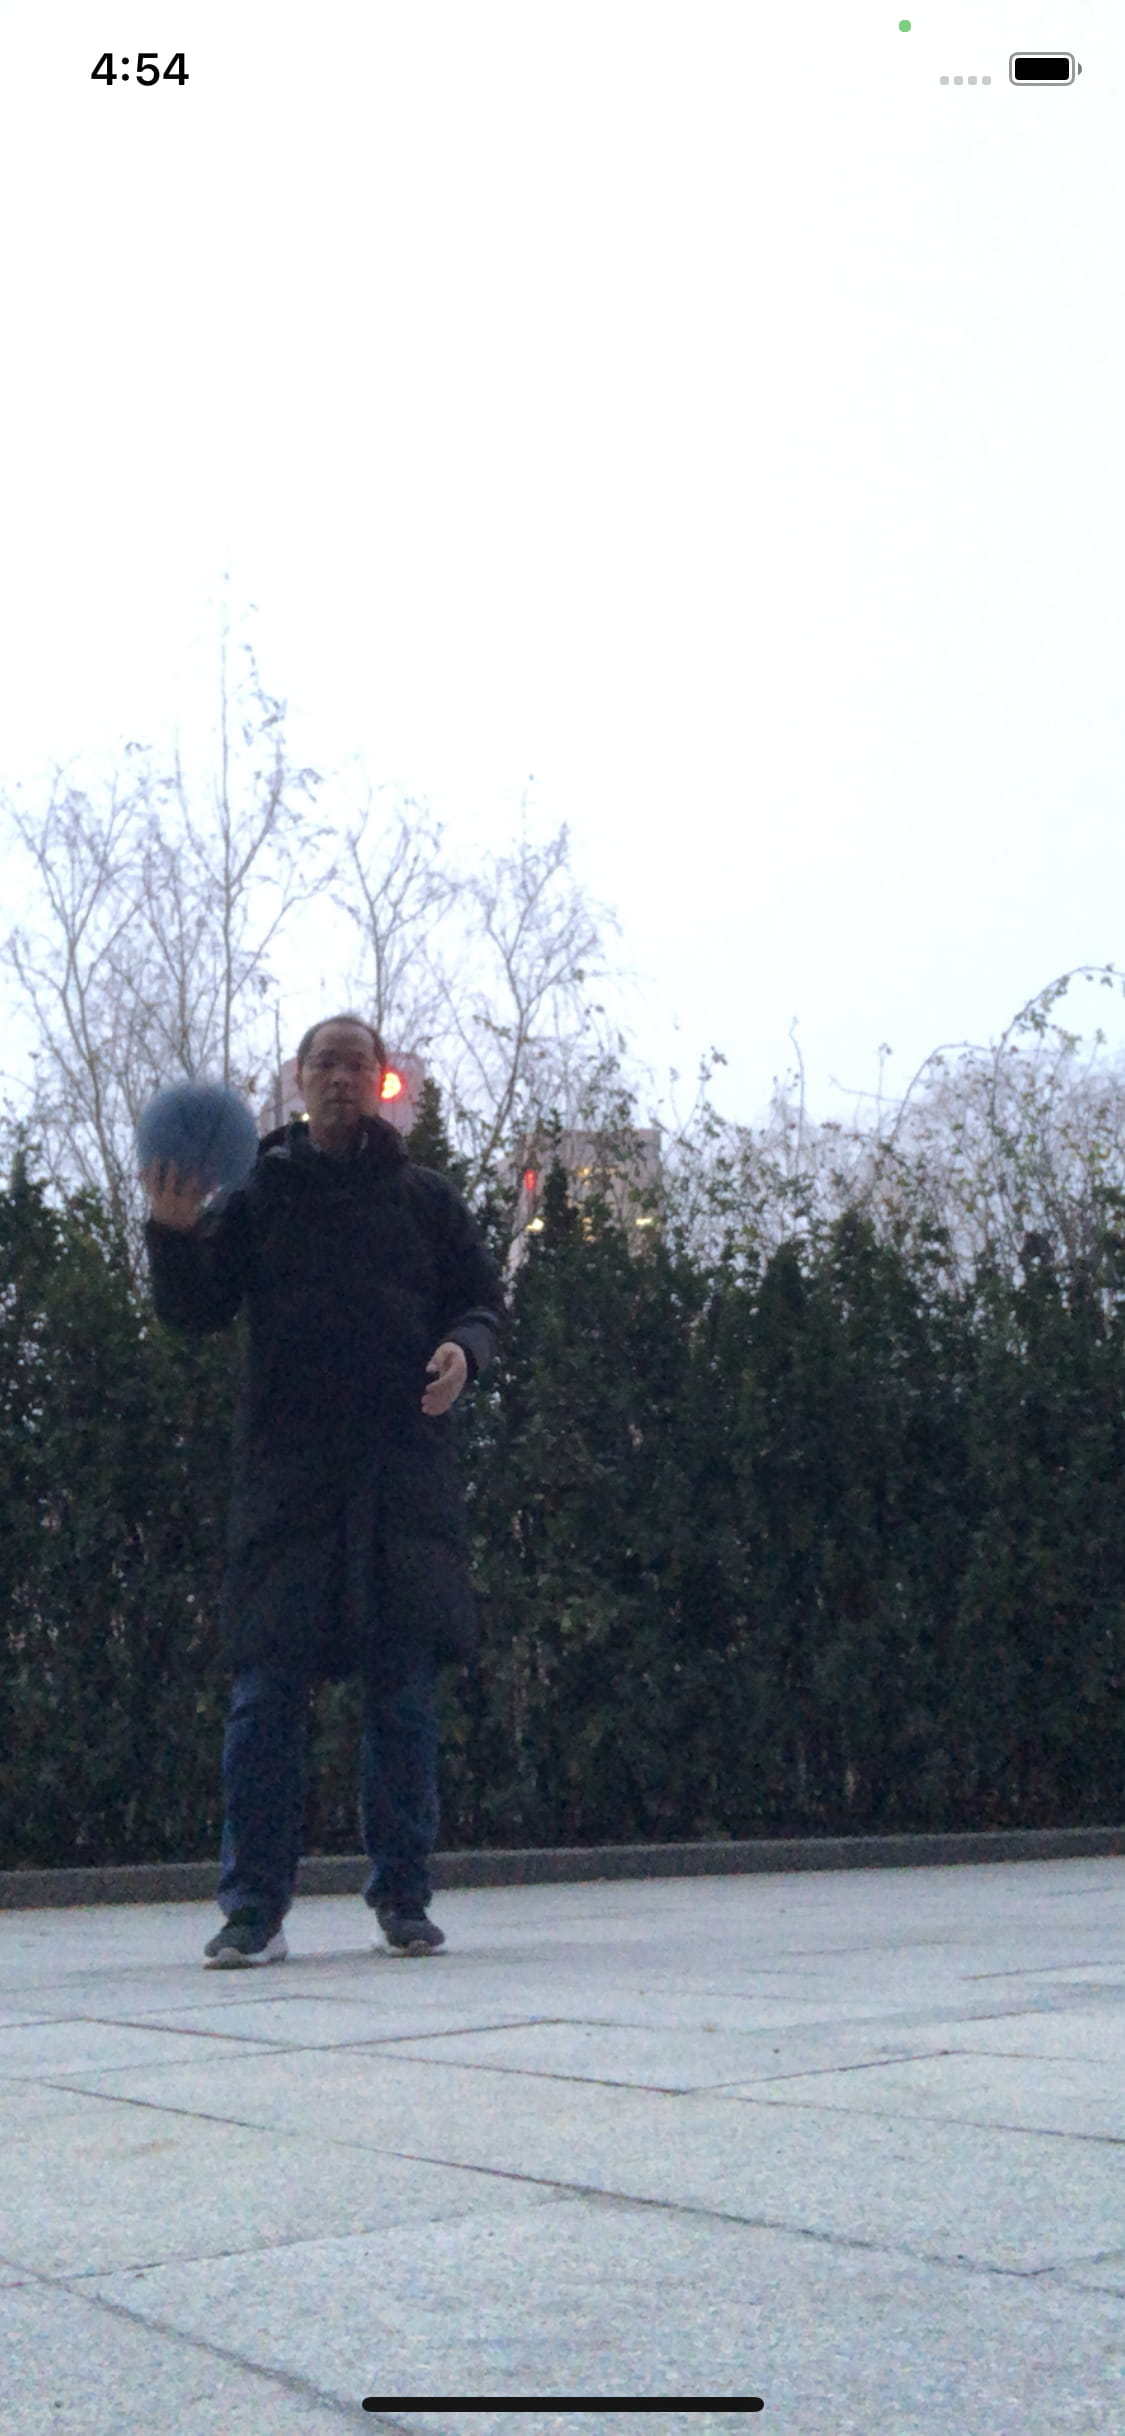ball: (140, 1078, 259, 1209)
